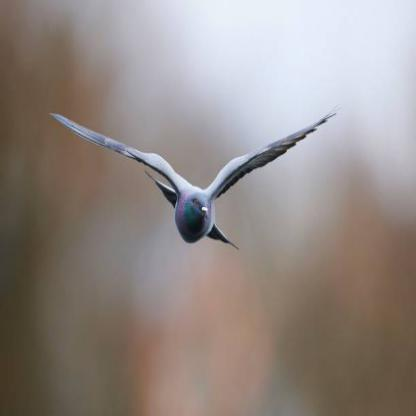Rock Pigeon: (50, 108, 339, 251)
